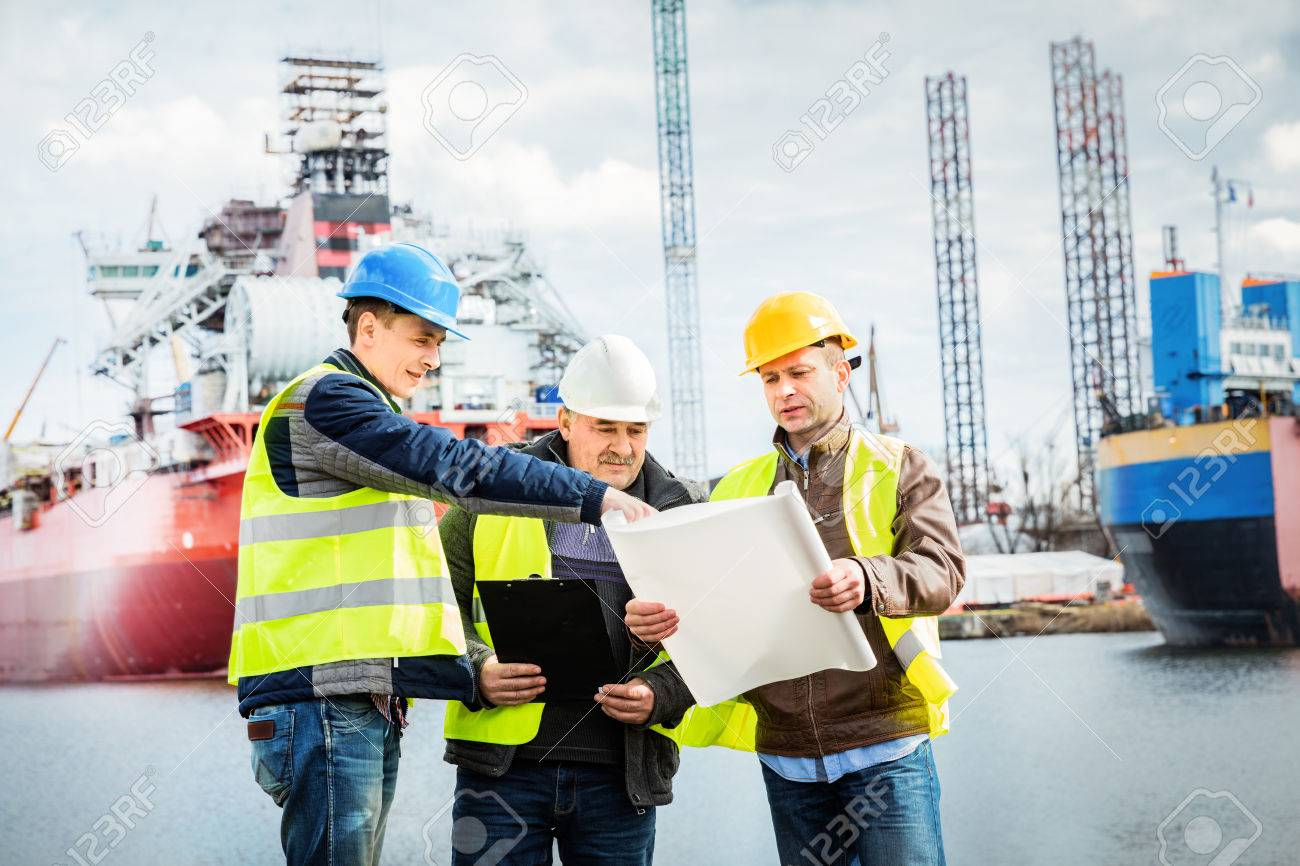casco: (333, 241, 473, 343), (737, 290, 859, 380), (555, 331, 659, 426)
